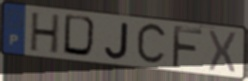C: (135, 22, 169, 68)
D: (61, 12, 100, 60)
F: (170, 24, 205, 70)
H: (28, 11, 62, 56)
J: (103, 21, 130, 61)
X: (207, 28, 239, 76)
